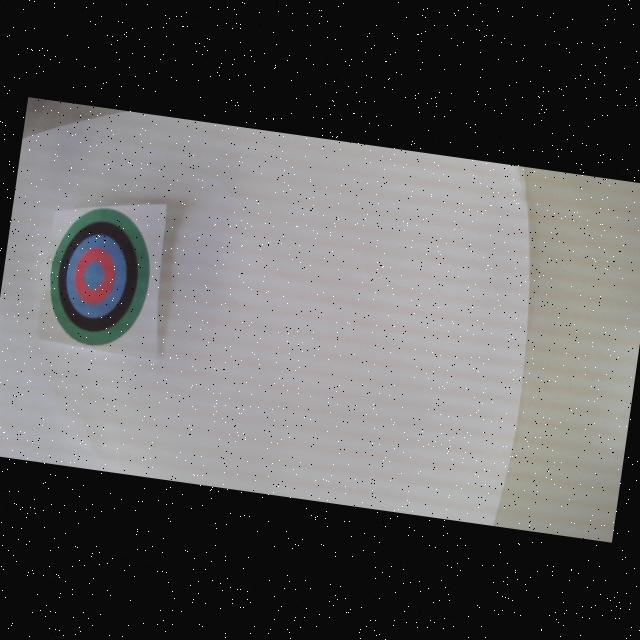COGNITIVE: (41, 200, 160, 354)
